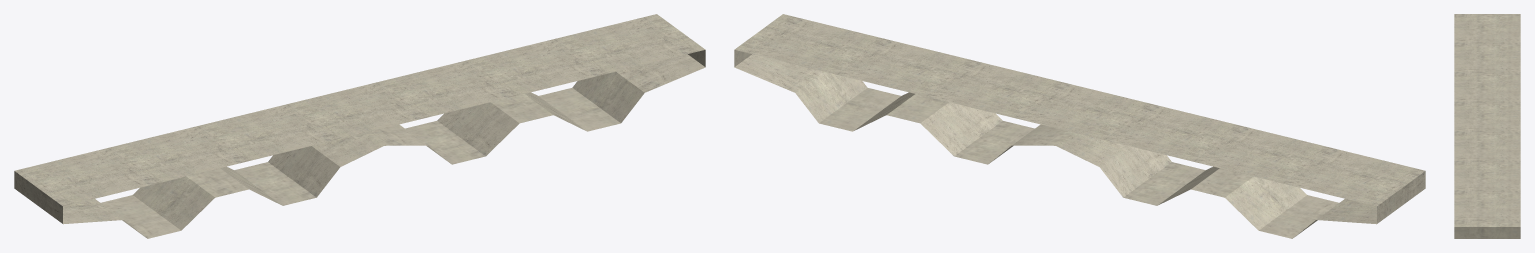
File: BridgeBase2-38w-5l-3d.FBX
The picture shows the model from 3 angles, left to right: view 1: azimuth 30°, elevation 25°; view 2: azimuth 150°, elevation 25°; view 3: azimuth 270°, elevation 25°; orthographic projection. The views are drawn at different scales.
Parts seen in each view (by area): view 1: BridgeBase2-38w-5l-3d; view 2: BridgeBase2-38w-5l-3d; view 3: BridgeBase2-38w-5l-3d.
Part boxes in pixels (box(x1,y1,x2,y2)): BridgeBase2-38w-5l-3d: box(14, 14, 705, 238); BridgeBase2-38w-5l-3d: box(734, 14, 1425, 238); BridgeBase2-38w-5l-3d: box(1454, 14, 1520, 238).
Bounding box in the file's own units: 38 × 3 × 5.
